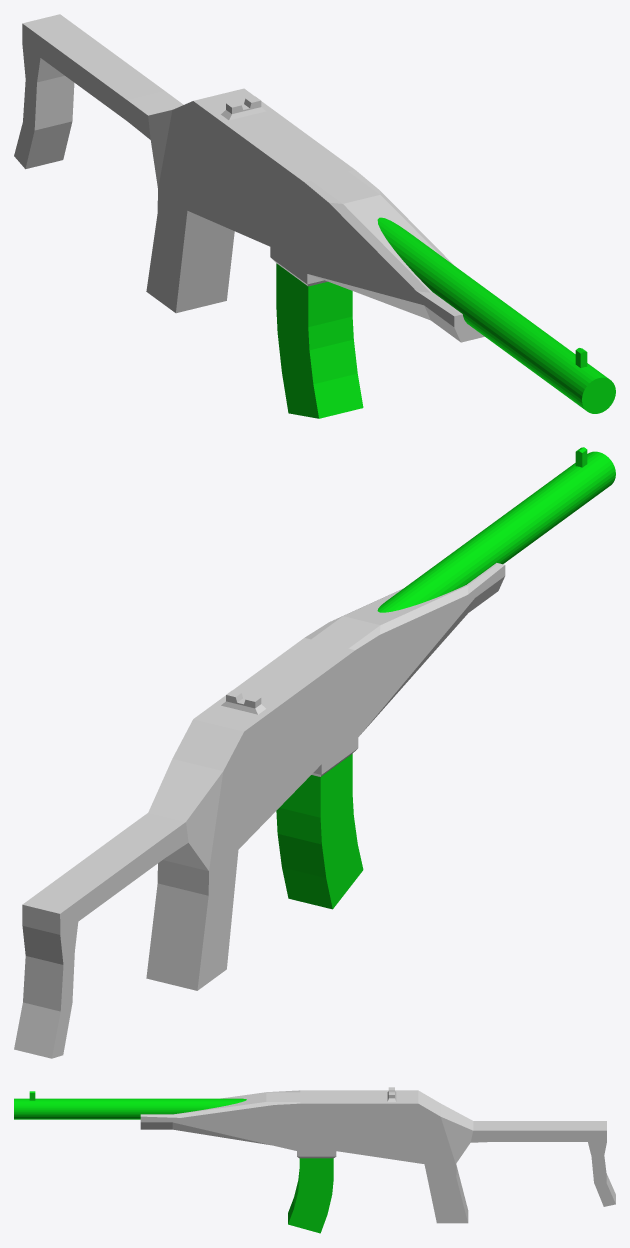
Rendered from Mp69 Draft.fbx.
3 views of the same model, one above another, from view 1: azimuth 30°, elevation 25°; view 2: azimuth 150°, elevation 25°; view 3: azimuth 270°, elevation 25° (orthographic). The views are drawn at different scales.
Parts seen in each view (by area): view 1: Cube.001; view 2: Cube.001; view 3: Cube.001.
Part boxes in pixels (<box>): Cube.001: <box>14,14,615,418</box>; Cube.001: <box>14,447,615,1058</box>; Cube.001: <box>14,1087,615,1233</box>.
Bounding box in the file's own units: 33.68 × 162 × 647.
